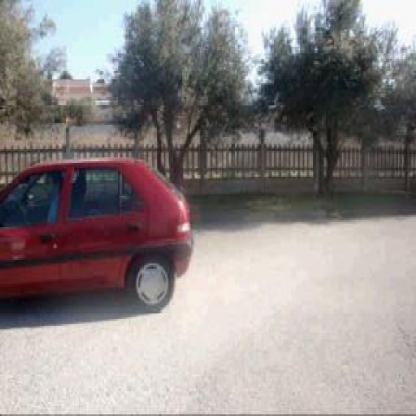other: (2, 146, 201, 318)
